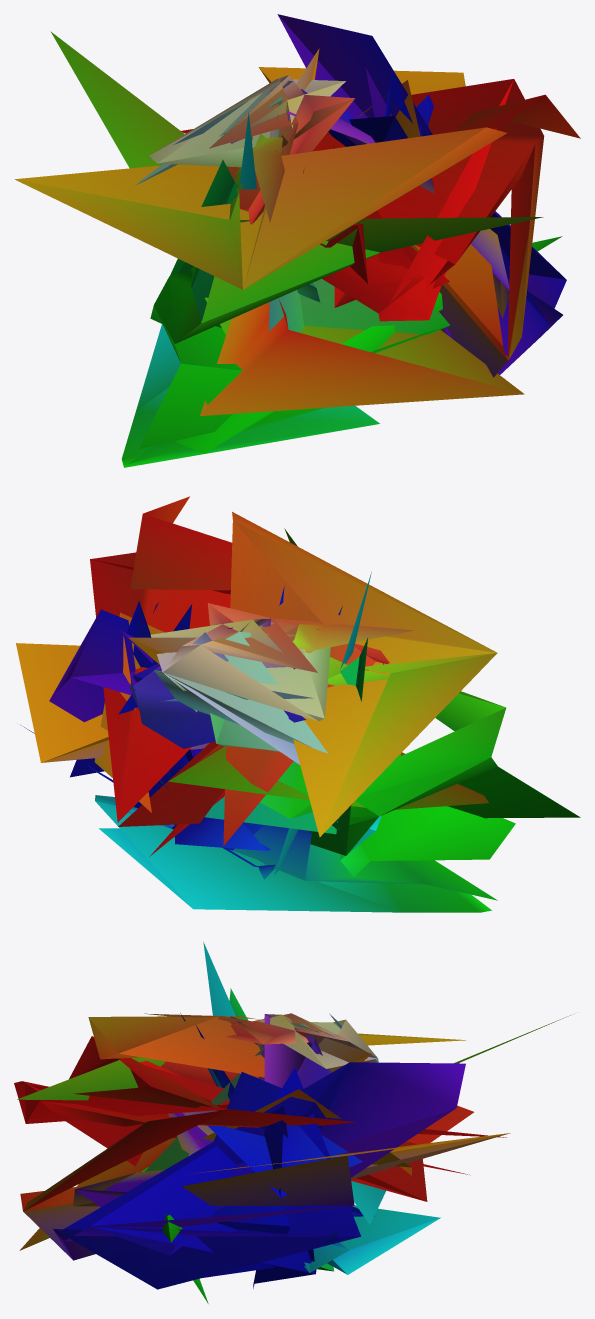
Rendered from zeometry-fragments-ruins-shard-cluster_v4.fbx.
3 renders of one model, top to bottom at view 1: azimuth 30°, elevation 25°; view 2: azimuth 150°, elevation 25°; view 3: azimuth 270°, elevation 25°, orthographic. The views are drawn at different scales.
Parts seen in each view (by area): view 1: Shard Cluster_v4; view 2: Shard Cluster_v4; view 3: Shard Cluster_v4.
Boxes of the visible parts, x1=… form: Shard Cluster_v4: x1=15, y1=14, x2=580, y2=467; Shard Cluster_v4: x1=16, y1=496, x2=580, y2=912; Shard Cluster_v4: x1=14, y1=942, x2=570, y2=1303.
Bounding box in the file's own units: 0.4356 × 0.2907 × 0.5.
